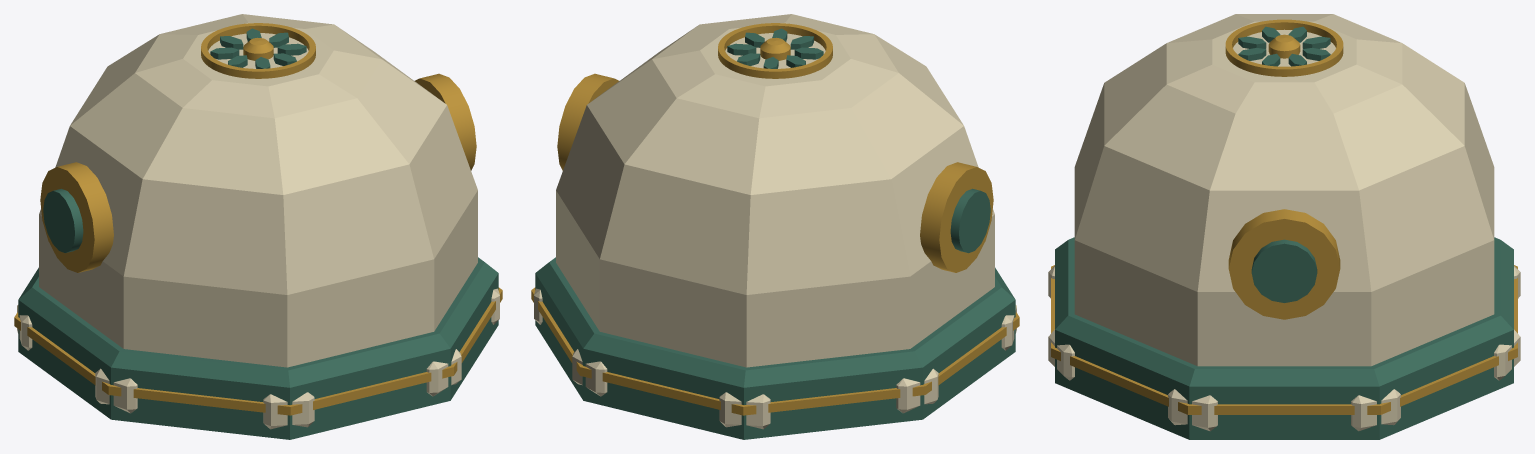
File: pd3_mount.obj
3 views of the same model, side by side, from view 1: azimuth 30°, elevation 25°; view 2: azimuth 150°, elevation 25°; view 3: azimuth 270°, elevation 25° (orthographic). The views are drawn at different scales.
Parts seen in each view (by area): view 1: pd3_mount; view 2: pd3_mount; view 3: pd3_mount.
Part boxes in pixels (box(x1,y1,x2,y2)): pd3_mount: box(14, 14, 502, 439); pd3_mount: box(531, 14, 1019, 439); pd3_mount: box(1048, 14, 1520, 439).
Bounding box in the file's own units: 1.44 × 1.03 × 1.44.
